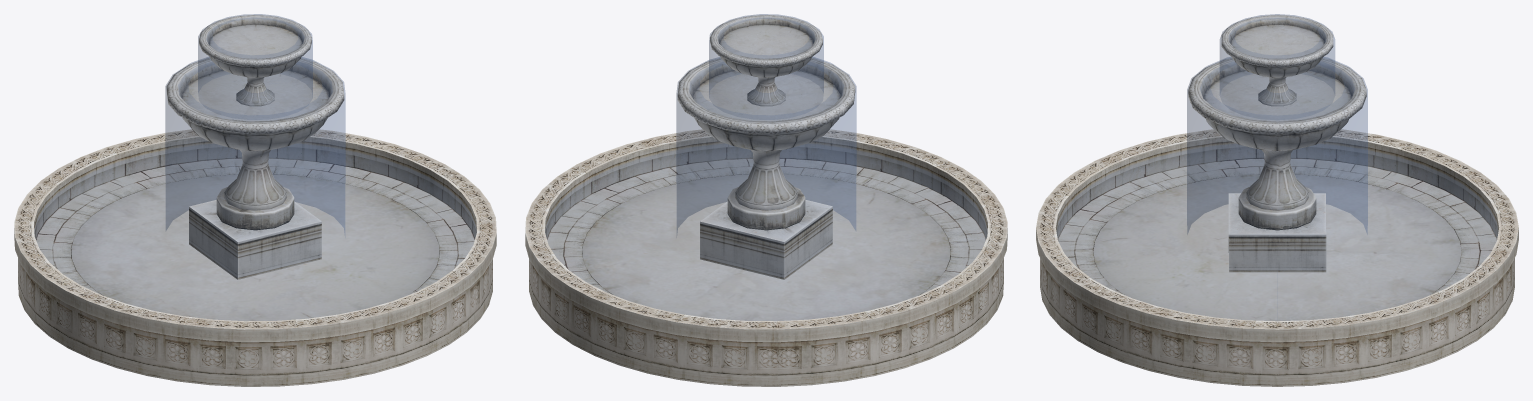
The model's file is geyser.FBX.
3 renders of one model, left to right at view 1: azimuth 30°, elevation 25°; view 2: azimuth 150°, elevation 25°; view 3: azimuth 270°, elevation 25°, orthographic.
Parts seen in each view (by area): view 1: fountain; view 2: fountain; view 3: fountain.
Part boxes in pixels (<box>): fountain: <box>14,14,496,386</box>; fountain: <box>525,14,1007,386</box>; fountain: <box>1036,14,1518,386</box>.
Size of the model in its own units: 7.69 by 4.38 by 7.69.
Materials: 2 (1 with a texture image).
